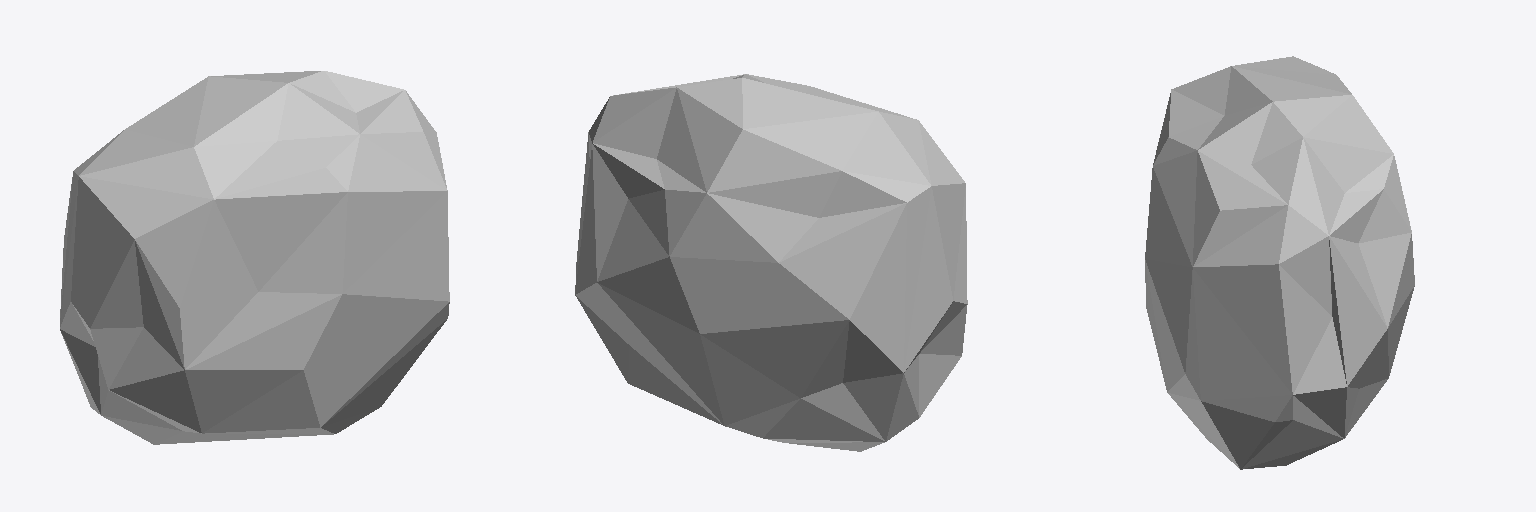
File: rock3.obj
The picture shows the model from 3 angles: view 1: azimuth 30°, elevation 25°; view 2: azimuth 150°, elevation 25°; view 3: azimuth 270°, elevation 25°; orthographic projection.
Parts seen in each view (by area): view 1: Cube; view 2: Cube; view 3: Cube.
Part boxes in pixels (left/top/right/bottom): Cube: left=60, top=71, right=449, bottom=444; Cube: left=575, top=74, right=967, bottom=451; Cube: left=1145, top=56, right=1414, bottom=469.
Bounding box in the file's own units: 1.66 × 1.44 × 1.05.